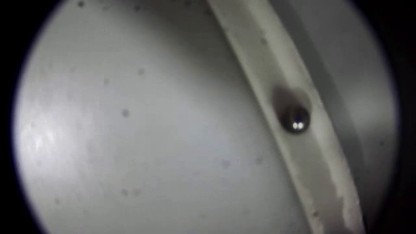gangzhu: (278, 103, 311, 133)
